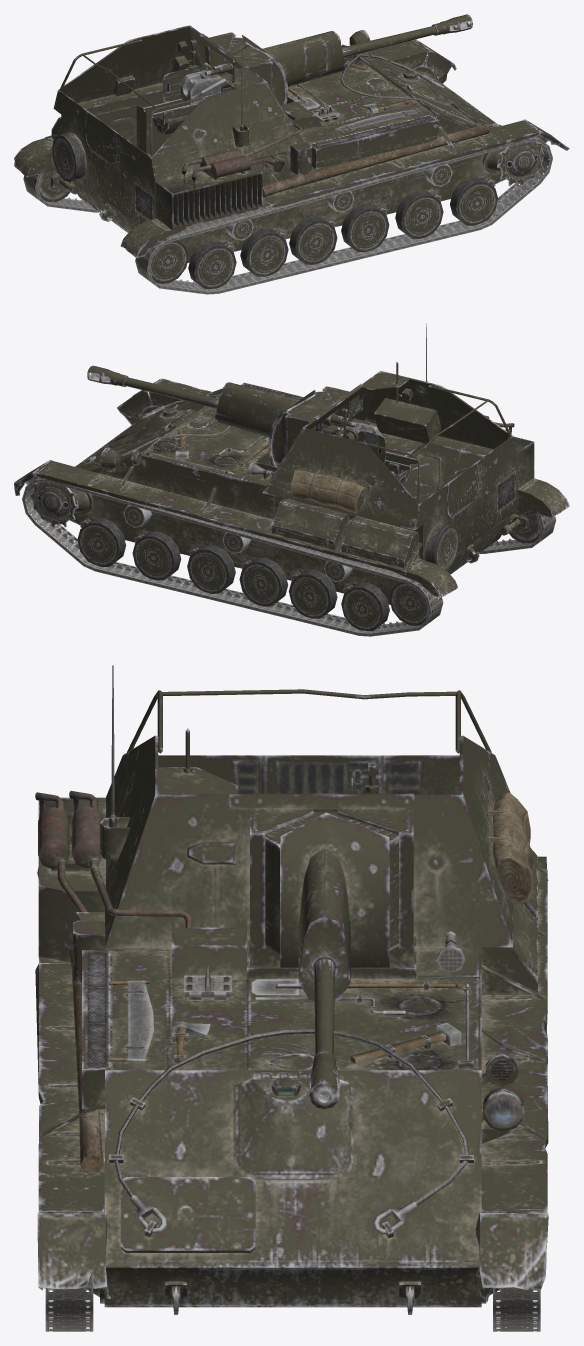
3 views of the same model, one above another, from view 1: azimuth 30°, elevation 25°; view 2: azimuth 150°, elevation 25°; view 3: azimuth 270°, elevation 25° (orthographic). The views are drawn at different scales.
Visible parts, largest first — view 1: SM_hull_5, SM_hull_nc_9, SM_chassis_wheels.001_2, SM_chassis_track_R_1, SM_gun_03_mask_4, SM_gun_03_3, SM_gun_03_mask_nc_7, SM_turret_01_6, SM_turret_01_nc_10, SM_chassis_track_L_0, SM_gun_03_nc_8; view 2: SM_hull_5, SM_hull_nc_9, SM_chassis_wheels.001_2, SM_chassis_track_L_0, SM_gun_03_mask_4, SM_gun_03_3, SM_turret_01_6, SM_turret_01_nc_10, SM_chassis_track_R_1, SM_gun_03_mask_nc_7; view 3: SM_hull_5, SM_hull_nc_9, SM_gun_03_mask_4, SM_turret_01_6, SM_gun_03_3, SM_chassis_track_R_1, SM_chassis_track_L_0.
Part boxes in pixels (box(x1,y1,x2,y2)): SM_hull_5: box(53, 25, 505, 262); SM_hull_nc_9: box(14, 30, 569, 257); SM_chassis_wheels.001_2: box(32, 60, 544, 289); SM_chassis_track_R_1: box(135, 136, 552, 294); SM_gun_03_mask_4: box(241, 31, 345, 103); SM_gun_03_3: box(180, 14, 472, 105); SM_gun_03_mask_nc_7: box(143, 87, 232, 134); SM_turret_01_6: box(225, 37, 286, 104); SM_turret_01_nc_10: box(163, 39, 228, 102); SM_chassis_track_L_0: box(23, 56, 437, 212); SM_gun_03_nc_8: box(191, 61, 237, 103); SM_hull_5: box(69, 370, 517, 604); SM_hull_nc_9: box(14, 323, 569, 597); SM_chassis_wheels.001_2: box(30, 400, 547, 631); SM_chassis_track_L_0: box(22, 477, 443, 636); SM_gun_03_mask_4: box(215, 382, 315, 466); SM_gun_03_3: box(87, 365, 381, 435); SM_turret_01_6: box(271, 391, 332, 463); SM_turret_01_nc_10: box(316, 408, 385, 463); SM_chassis_track_R_1: box(139, 396, 556, 553); SM_gun_03_mask_nc_7: box(384, 452, 417, 484); SM_hull_5: box(104, 735, 512, 1307); SM_hull_nc_9: box(35, 665, 548, 1314); SM_gun_03_mask_4: box(280, 812, 389, 1001); SM_turret_01_6: box(265, 813, 398, 964); SM_gun_03_3: box(309, 957, 339, 1108); SM_chassis_track_R_1: box(45, 1273, 93, 1331); SM_chassis_track_L_0: box(493, 1287, 540, 1331).
Bounding box in the file's own units: 5.34 × 2.61 × 2.74.
2 materials, 2 textured.
